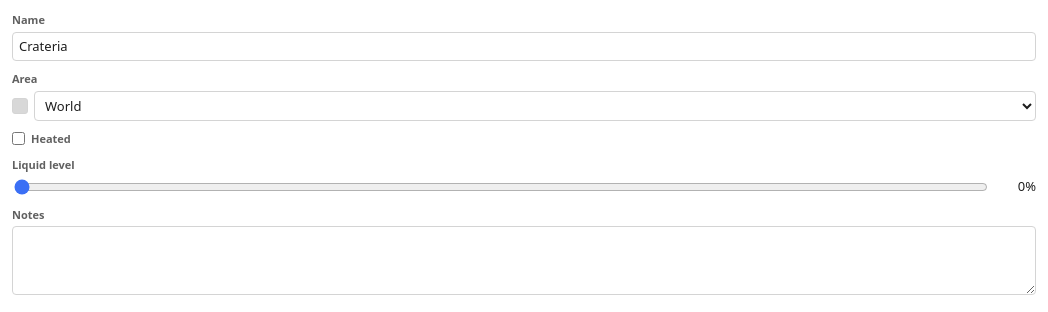
Scenario: InspectorPanel › the Room panel › restores the thumb and the readout on Escape, and commits nothing after
Press the mouse on the slider with id "inspector-room-liquid" at (501, 186), box top-left (14, 178), bottom-right (988, 194)
Set the slider with id "inspector-room-liquid" to "60" at (597, 186), box top-left (14, 178), bottom-right (988, 194)
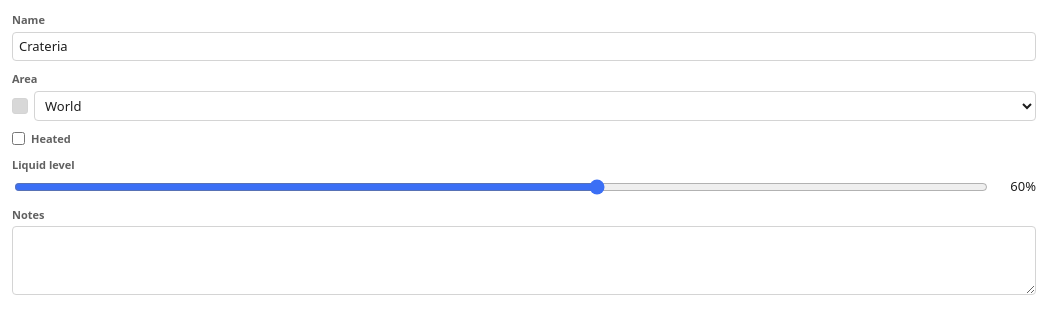
Press Esc in the slider with id "inspector-room-liquid", box top-left (14, 178), bottom-right (988, 194)
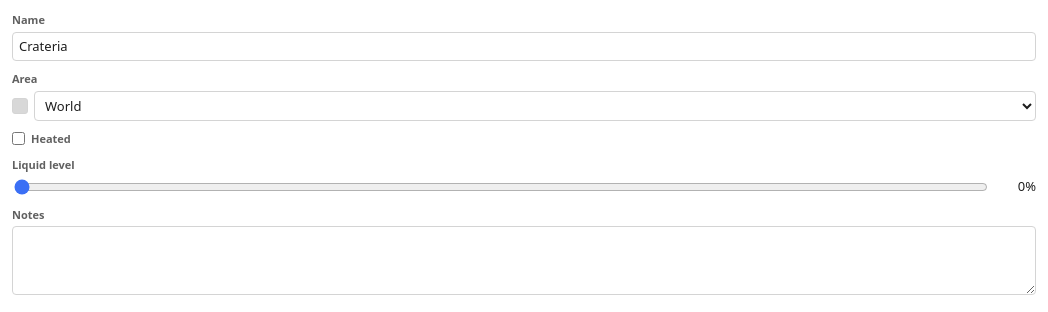
Expected: the text with class "field-readout" reads "0%", top-left (1018, 177), bottom-right (1036, 195)
Expected: the slider with id "inspector-room-liquid" holds "0", top-left (14, 178), bottom-right (988, 194)
